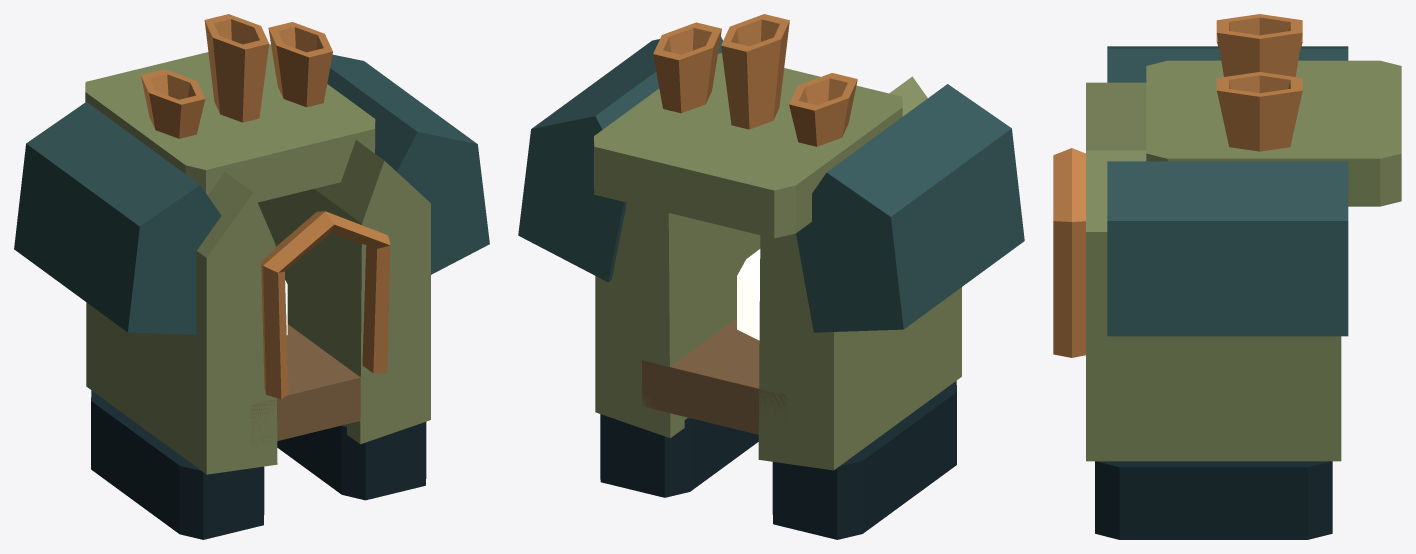
The model's file is pyre.glb.
3 views of the same model, side by side, from view 1: azimuth 30°, elevation 25°; view 2: azimuth 150°, elevation 25°; view 3: azimuth 270°, elevation 25° (orthographic). The views are drawn at different scales.
Parts seen in each view (by area): view 1: body; view 2: body; view 3: body.
Boxes of the visible parts, <box> form: body: <box>14,14,489,539</box>; body: <box>518,14,1024,539</box>; body: <box>1053,14,1401,539</box>.
Size of the model in its own units: 2.1 by 2.35 by 1.65.
